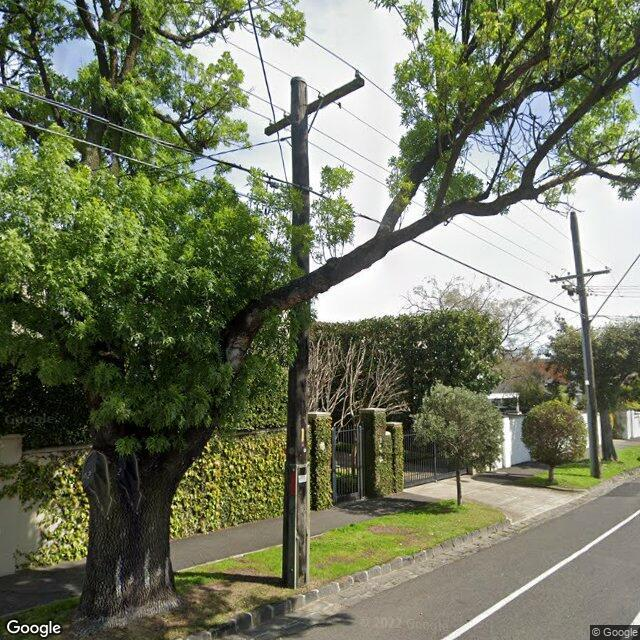crossarm: (263, 69, 366, 136), (549, 265, 611, 284)
timber-pole: (282, 76, 311, 587), (569, 211, 601, 478)
